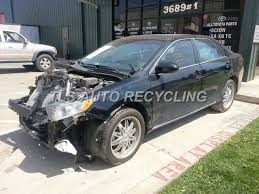Broken-glass: (45, 99, 88, 121)
Smashed: (13, 64, 116, 137)
